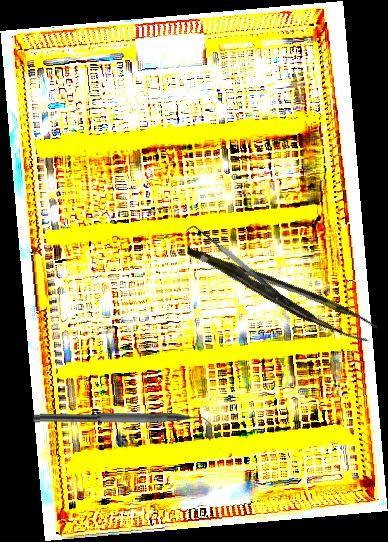Chopper: (32, 410, 220, 435)
Spatula Surgical: (185, 219, 293, 316)
Tissue Forceps: (186, 225, 379, 355)
